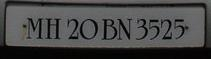2: (159, 17, 173, 41), (66, 17, 80, 40)
3: (134, 16, 148, 41)
5: (147, 17, 160, 41), (172, 17, 185, 41)
B: (101, 17, 118, 41)
H: (44, 16, 62, 40)
M: (26, 15, 44, 41)
N: (116, 17, 132, 40)
O: (80, 17, 98, 41)
